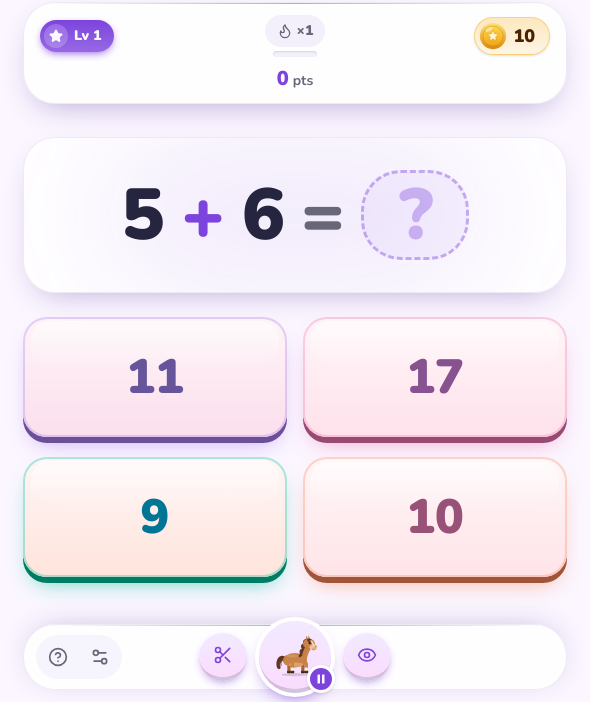
GameScreen › offers a picture hint for addition too
Click the button named "Show hint" at (367, 657), box [343,633,391,681]
(page scrolled)
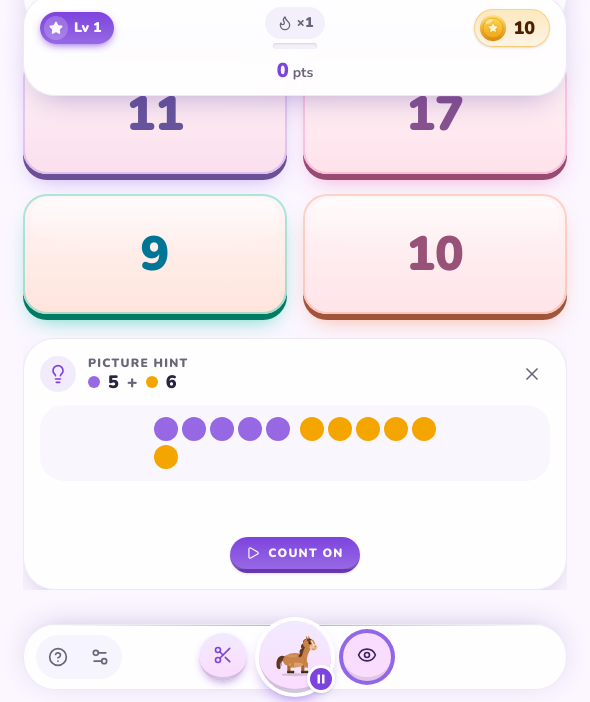
Expected: the button "Count on" is shown, [230,537,360,573]
